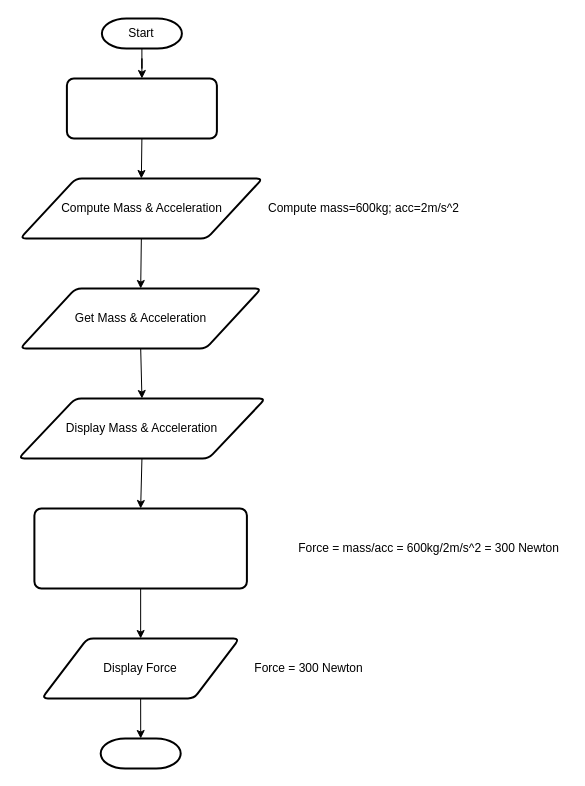
Some shapes in this 585 by 786 pixel diagram are drawn without their labels. The shapes that lost their labels are listed below. From the top down, each one's box as (x1, y1, x2, y2) in pixels, then its label:
(65, 77, 217, 139): Declare variables: Mass, Acceleration, Resultant Force
(33, 507, 247, 589): Calculate Force as Mass/Acceleration
(99, 737, 181, 769): Stop
